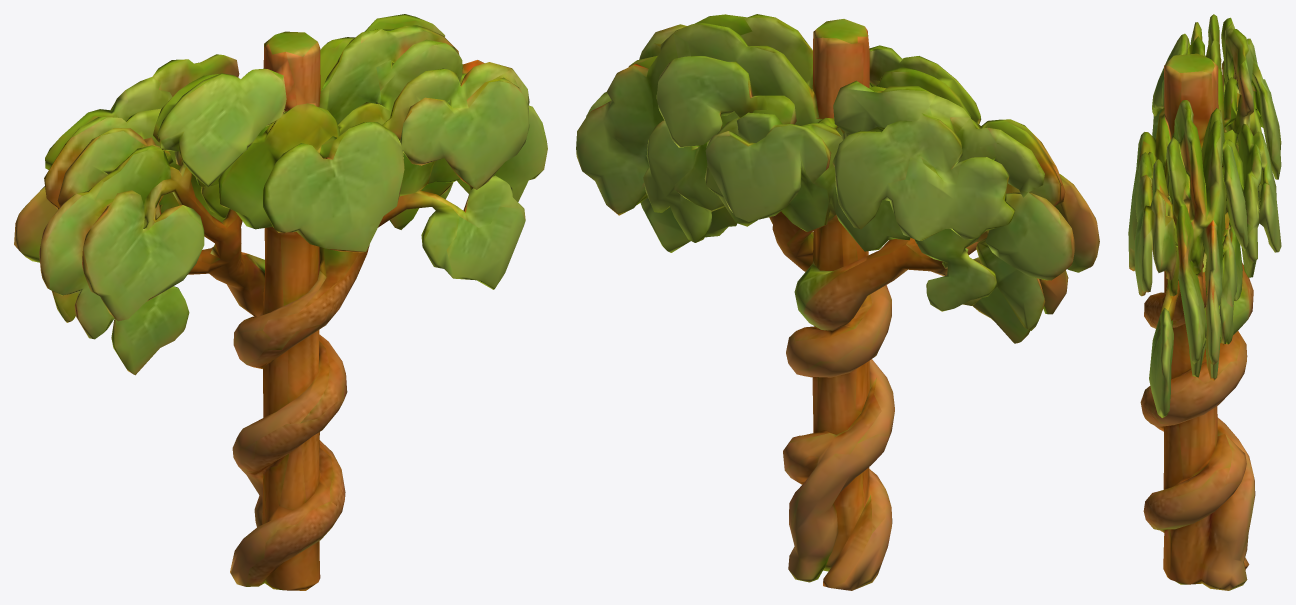
The model's file is kiwi.glb.
3 views of the same model, side by side, from view 1: azimuth 30°, elevation 25°; view 2: azimuth 150°, elevation 25°; view 3: azimuth 270°, elevation 25° (orthographic). The views are drawn at different scales.
Visible parts, largest first — view 1: textured_mesh.obj; view 2: textured_mesh.obj; view 3: textured_mesh.obj.
Boxes of the visible parts, <box> form: textured_mesh.obj: <box>14,14,547,590</box>; textured_mesh.obj: <box>576,14,1099,590</box>; textured_mesh.obj: <box>1128,14,1281,590</box>.
Size of what is drawn, in the model's own units: 2.88 by 2.9 by 0.7819.
1 material, 1 textured.
